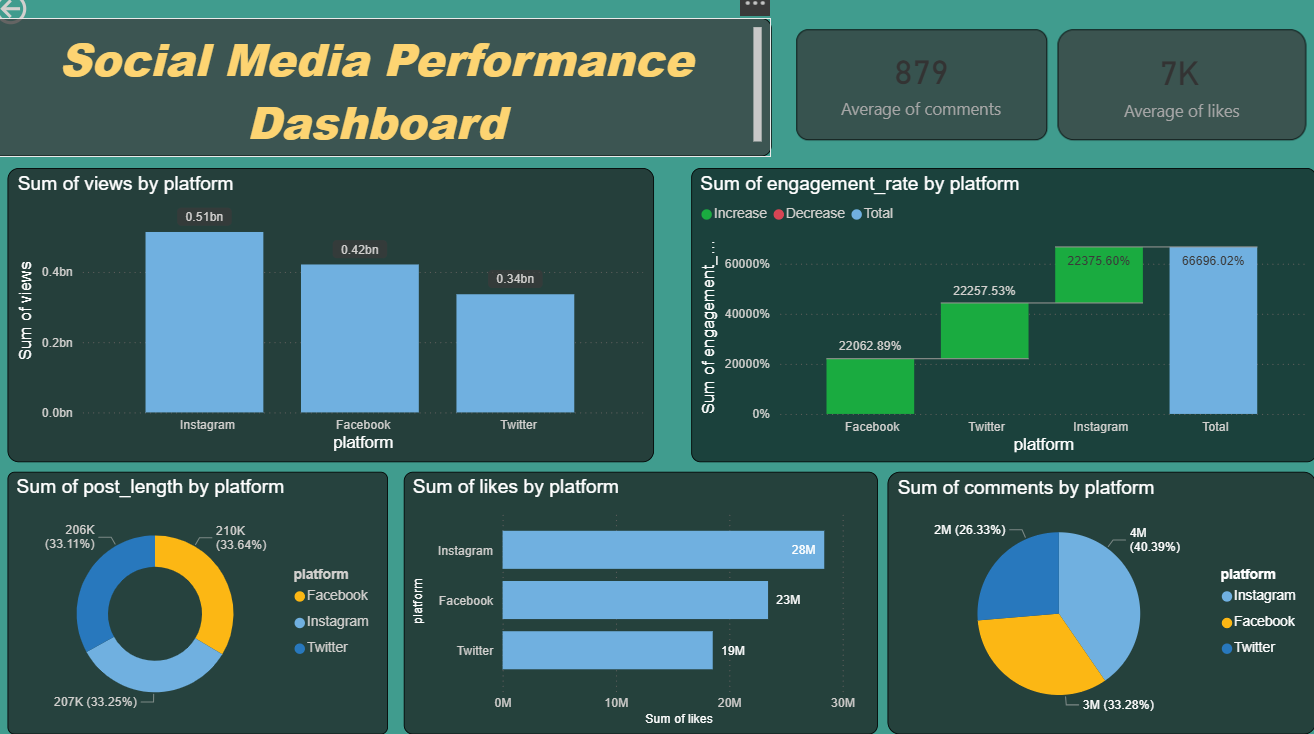

The dashboard page shown, as its layout file describes it:
{"tool":"powerbi","page":{"name":"Page 1","canvas":[1280,720],"ordinal":0},"visuals":[{"type":"clusteredBarChart","fields":{"Category":["social_media_engagement_dataset.platform"],"Y":["Sum(social_media_engagement_dataset.likes)"]},"box":[399.9,466.8,457.2,253.9],"z":1},{"type":"pieChart","fields":{"Category":["social_media_engagement_dataset.platform"],"Y":["Sum(social_media_engagement_dataset.comments)"]},"box":[866.7,466.8,413.6,253.9],"z":2},{"type":"lineClusteredColumnComboChart","fields":{"Category":["social_media_engagement_dataset.platform"],"Y":["Sum(social_media_engagement_dataset.views)"]},"box":[16.4,173.3,623.8,283.9],"z":3},{"type":"waterfallChart","fields":{"Category":["social_media_engagement_dataset.platform"],"Y":["Sum(social_media_engagement_dataset.engagement_rate)"]},"box":[677,173.3,603.3,283.9],"z":4},{"type":"actionButton","box":[0,0,100,40],"z":6},{"type":"donutChart","fields":{"Category":["social_media_engagement_dataset.platform"],"Y":["Sum(social_media_engagement_dataset.post_length)"]},"box":[16.4,466.8,367.2,253.9],"z":7},{"type":"advanceCardE03760C5AB684758B56AA29F9E6C257B","fields":{"mainMeasure":["Avg(social_media_engagement_dataset.likes)"]},"box":[1030.3,39.8,240.1,107.4],"z":8},{"type":"advanceCardE03760C5AB684758B56AA29F9E6C257B","fields":{"mainMeasure":["Avg(social_media_engagement_dataset.comments)"]},"box":[778.2,39.8,242.5,107.4],"z":9},{"type":"textbox","box":[0,29,754,133.9],"z":11}]}

Visuals, with their boxes in screenshot pixels (x1, y1, x2, y2), scaled from the page's 1280x720 canvas onto the 1314x734 screenshot:
clusteredBarChart - social_media_engagement_dataset.platform x Sum(social_media_engagement_dataset.likes): 411 476 880 733
pieChart - social_media_engagement_dataset.platform x Sum(social_media_engagement_dataset.comments): 890 476 1313 733
lineClusteredColumnComboChart - social_media_engagement_dataset.platform x Sum(social_media_engagement_dataset.views): 17 177 657 466
waterfallChart - social_media_engagement_dataset.platform x Sum(social_media_engagement_dataset.engagement_rate): 695 177 1313 466
actionButton: 0 0 103 41
donutChart - social_media_engagement_dataset.platform x Sum(social_media_engagement_dataset.post_length): 17 476 394 733
advanceCardE03760C5AB684758B56AA29F9E6C257B - Avg(social_media_engagement_dataset.likes): 1058 41 1304 150
advanceCardE03760C5AB684758B56AA29F9E6C257B - Avg(social_media_engagement_dataset.comments): 799 41 1048 150
textbox: 0 30 774 166
